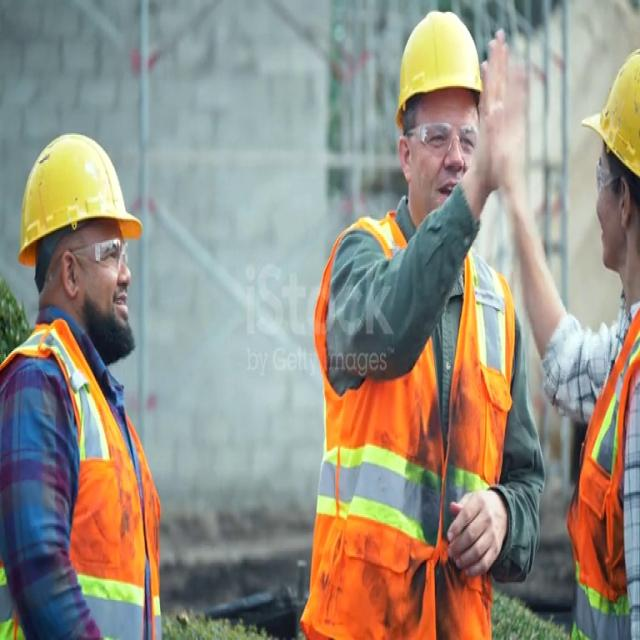capacete: (10, 136, 152, 267), (374, 5, 502, 126), (574, 44, 640, 211)
